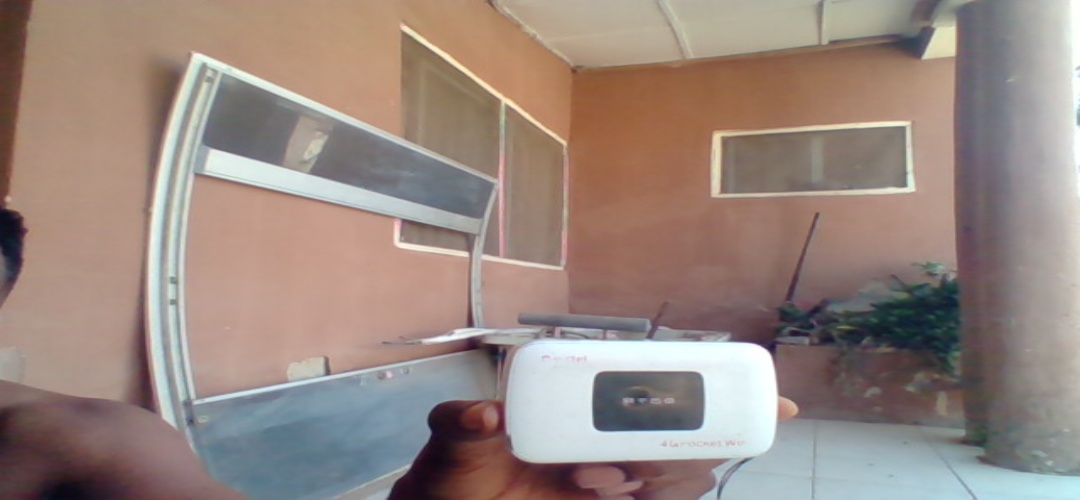mifi: (500, 334, 779, 461)
